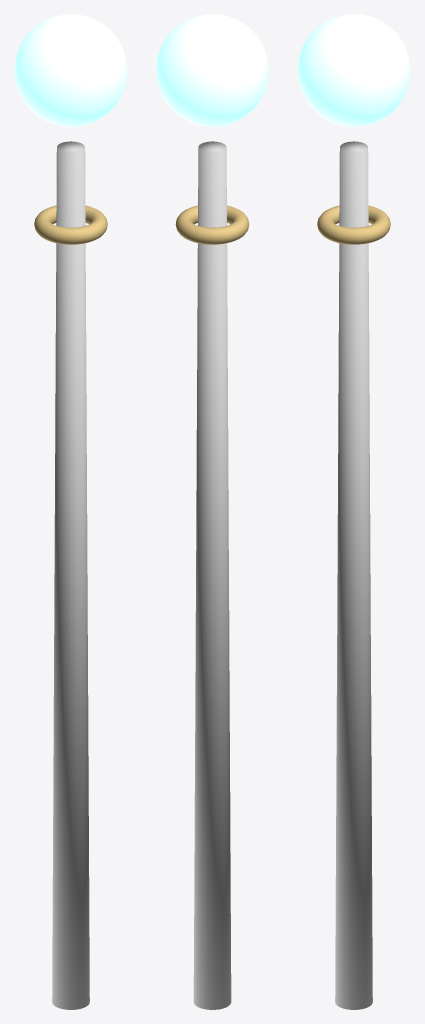
The model's file is asa_0.glb.
The picture shows the model from 3 angles, left to right: view 1: azimuth 90°, elevation 25°; view 2: azimuth 150°, elevation 25°; view 3: azimuth 270°, elevation 25°; orthographic projection.
Parts seen in each view (by area): view 1: Cone, Sphere, Torus; view 2: Cone, Sphere, Torus; view 3: Cone, Sphere, Torus.
Boxes of the visible parts, box(x1,y1,x2,y2) form: Cone: box(52, 141, 89, 1009); Sphere: box(14, 14, 127, 126); Torus: box(34, 205, 107, 244); Cone: box(193, 141, 231, 1009); Sphere: box(156, 14, 268, 126); Torus: box(175, 205, 249, 244); Cone: box(335, 141, 372, 1009); Sphere: box(297, 14, 410, 126); Torus: box(317, 205, 390, 244).
Bounding box in the file's own units: 0.24 × 2.3 × 0.24.
